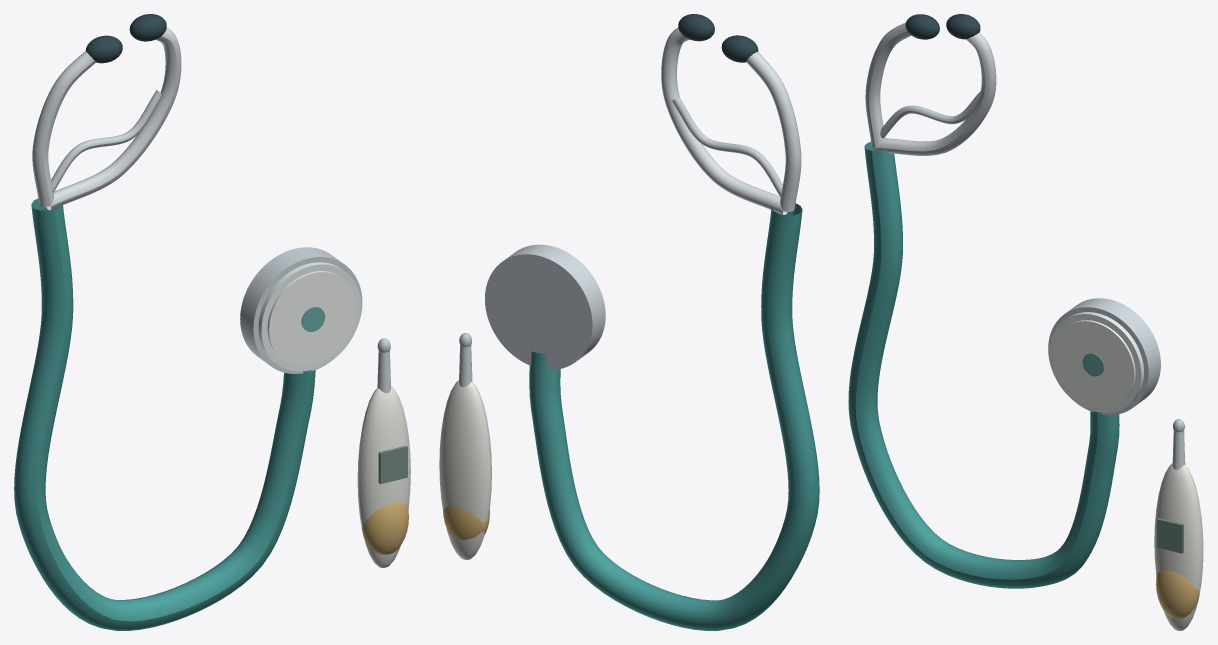
Rendered from pediatric-examination.glb.
3 views of the same model, side by side, from view 1: azimuth 30°, elevation 25°; view 2: azimuth 150°, elevation 25°; view 3: azimuth 330°, elevation 25° (orthographic). The views are drawn at different scales.
Visible parts, largest first — view 1: Soft pediatric stethoscope tubing, Pediatric diaphragm, Infant thermometer body, Right stainless binaural, Small pediatric chestpiece, Left stainless binaural, Diaphragm retaining ring, Thermometer grip, Soft ear tips, Binaural spring, Thermometer display; view 2: Soft pediatric stethoscope tubing, Small pediatric chestpiece, Infant thermometer body, Right stainless binaural, Left stainless binaural, Soft ear tips, Binaural spring, Thermometer grip; view 3: Soft pediatric stethoscope tubing, Pediatric diaphragm, Infant thermometer body, Right stainless binaural, Small pediatric chestpiece, Diaphragm retaining ring, Left stainless binaural, Thermometer grip, Soft ear tips, Binaural spring, Thermometer display.
Boxes of the visible parts, box(x1,y1,x2,y2) form: Soft pediatric stethoscope tubing: box(14, 198, 315, 630); Pediatric diaphragm: box(267, 271, 356, 366); Infant thermometer body: box(357, 386, 410, 567); Right stainless binaural: box(46, 28, 181, 210); Small pediatric chestpiece: box(240, 247, 362, 373); Left stainless binaural: box(32, 51, 95, 207); Diaphragm retaining ring: box(258, 262, 361, 371); Thermometer grip: box(361, 502, 408, 554); Soft ear tips: box(85, 14, 166, 63); Binaural spring: box(51, 90, 161, 192); Thermometer display: box(378, 445, 407, 484); Soft pediatric stethoscope tubing: box(529, 203, 819, 630); Small pediatric chestpiece: box(485, 244, 605, 369); Infant thermometer body: box(439, 380, 491, 559); Right stainless binaural: box(661, 27, 787, 214); Left stainless binaural: box(746, 52, 801, 211); Soft ear tips: box(678, 14, 758, 62); Binaural spring: box(672, 96, 782, 196); Thermometer grip: box(443, 506, 489, 540); Soft pediatric stethoscope tubing: box(848, 141, 1119, 588); Pediatric diaphragm: box(1053, 320, 1135, 407); Infant thermometer body: box(1154, 463, 1203, 630); Right stainless binaural: box(875, 32, 996, 155); Small pediatric chestpiece: box(1048, 298, 1160, 415); Diaphragm retaining ring: box(1049, 312, 1143, 412); Left stainless binaural: box(865, 22, 911, 147); Thermometer grip: box(1156, 570, 1199, 618); Soft ear tips: box(905, 14, 980, 39); Binaural spring: box(880, 91, 980, 138); Thermometer display: box(1157, 518, 1183, 553).
Bounding box in the file's own units: 2.2 × 3.35 × 0.2494.
